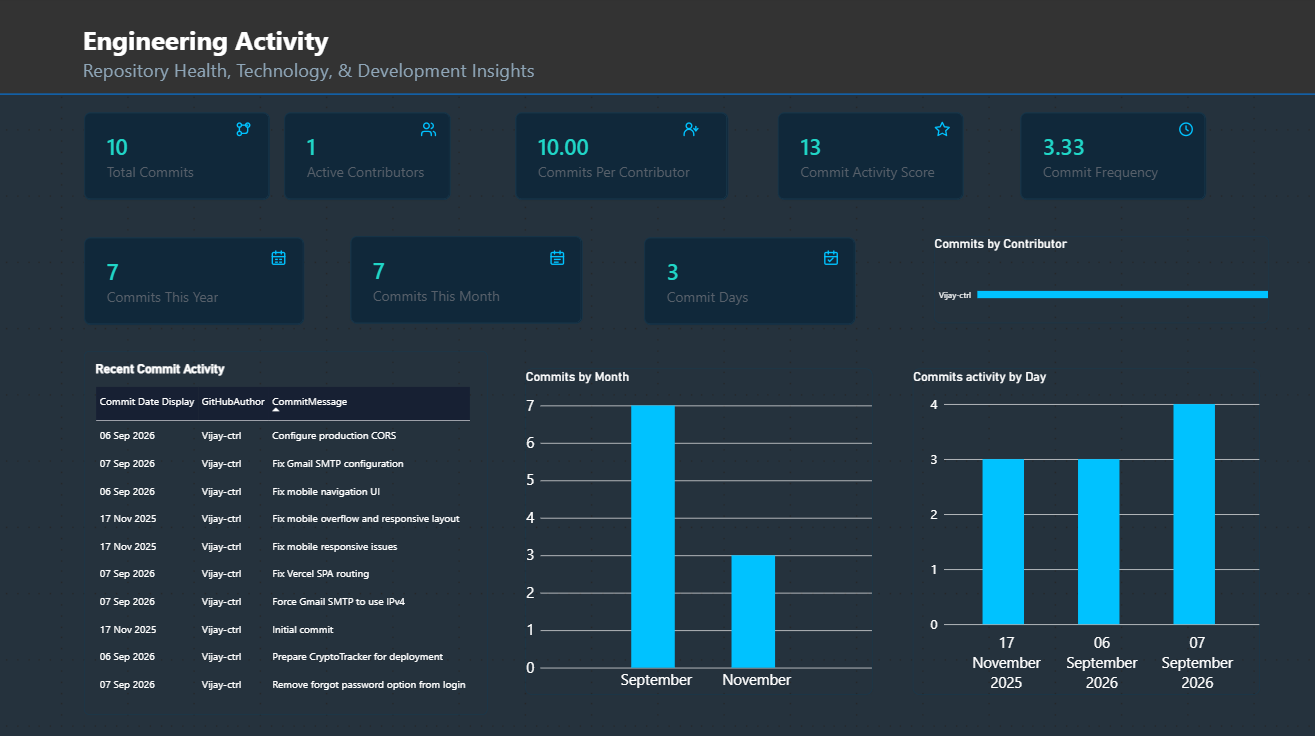

What the dashboard file says about the page in this screenshot:
{"tool":"powerbi","page":{"name":"Engineering Activity","canvas":[1920,1080],"ordinal":1},"visuals":[{"type":"cardVisual","fields":{"Data":["FactCommits.Total Commits"]},"box":[129.7,168.6,269.8,127.1],"z":0},{"type":"cardVisual","fields":{"Data":["FactCommits.Active Contributors"]},"box":[420.3,168.6,241.3,127.1],"z":1000},{"type":"cardVisual","fields":{"Data":["FactCommits.Commits Per Contributor"]},"box":[755,168.6,308.8,127.1],"z":2000},{"type":"cardVisual","fields":{"Data":["FactCommits.Commits This Year"]},"box":[129.7,350.3,319.1,127.1],"z":3000},{"type":"cardVisual","fields":{"Data":["FactCommits.Commits This Month"]},"box":[516.3,347.7,336.9,127],"z":4000},{"type":"cardVisual","fields":{"Data":["FactCommits.Commit Days"]},"box":[941.8,350.3,306.2,127.1],"z":5000},{"type":"cardVisual","fields":{"Data":["FactCommits.Commit Frequency"]},"box":[1486.7,168.6,269.8,127.1],"z":6000},{"type":"cardVisual","fields":{"Data":["FactCommits.Commit Activity Score"]},"box":[1136.4,168.6,269.8,127.1],"z":7000},{"type":"clusteredColumnChart","title":"Commits activity by Day","fields":{"Category":["DimDate.Date"],"Y":["FactCommits.Total Commits"]},"box":[1331.3,539.8,503.5,472.8],"z":8000},{"type":"clusteredColumnChart","title":"Commits by Month","fields":{"Category":["DimDate.Month"],"Y":["FactCommits.Total Commits"]},"box":[769.8,539.8,503.5,472.8],"z":9000},{"type":"clusteredBarChart","title":"Commits by Contributor","fields":{"Category":["FactCommits.GitHubAuthor"],"Y":["FactCommits.Total Commits"]},"box":[1362.1,347.8,485.4,126.8],"z":10000},{"type":"shape","box":[0,0,1920,142.3],"z":11000},{"type":"textbox","box":[128.6,38,534.3,59.8],"z":12000},{"type":"textbox","box":[128.6,70.6,934.6,72.5],"z":13000},{"type":"tableEx","title":"Recent Commit Activity","fields":{"Values":["DimDate.Commit Date Display","FactCommits.GitHubAuthor","FactCommits.CommitMessage"]},"box":[130.4,514.4,585.1,527.1],"z":14000},{"type":"image","box":[350.3,181.6,24,24],"z":14001},{"type":"image","box":[617.5,181.6,24,24],"z":14002},{"type":"image","box":[998.9,181.6,24,24],"z":14003},{"type":"image","box":[1362.2,181.6,24,24],"z":14004},{"type":"image","box":[1715,181.6,24,24],"z":14005},{"type":"image","box":[399.6,368.4,24,24],"z":14006},{"type":"image","box":[804.3,368.4,24,24],"z":14007},{"type":"image","box":[1201.3,368.4,24,24],"z":14008},{"type":"shape","box":[0,115.9,1920,52.5],"z":14009}]}

Visuals, with their boxes in screenshot pixels (x1, y1, x2, y2), scaled from the page's 1920x1080 canvas onto the 1315x736 screenshot:
cardVisual - FactCommits.Total Commits: {"x1": 89, "y1": 115, "x2": 274, "y2": 202}
cardVisual - FactCommits.Active Contributors: {"x1": 288, "y1": 115, "x2": 453, "y2": 202}
cardVisual - FactCommits.Commits Per Contributor: {"x1": 517, "y1": 115, "x2": 729, "y2": 202}
cardVisual - FactCommits.Commits This Year: {"x1": 89, "y1": 239, "x2": 307, "y2": 325}
cardVisual - FactCommits.Commits This Month: {"x1": 354, "y1": 237, "x2": 584, "y2": 323}
cardVisual - FactCommits.Commit Days: {"x1": 645, "y1": 239, "x2": 855, "y2": 325}
cardVisual - FactCommits.Commit Frequency: {"x1": 1018, "y1": 115, "x2": 1203, "y2": 202}
cardVisual - FactCommits.Commit Activity Score: {"x1": 778, "y1": 115, "x2": 963, "y2": 202}
"Commits activity by Day" clusteredColumnChart: {"x1": 912, "y1": 368, "x2": 1257, "y2": 690}
"Commits by Month" clusteredColumnChart: {"x1": 527, "y1": 368, "x2": 872, "y2": 690}
"Commits by Contributor" clusteredBarChart: {"x1": 933, "y1": 237, "x2": 1265, "y2": 323}
shape: {"x1": 0, "y1": 0, "x2": 1314, "y2": 97}
textbox: {"x1": 88, "y1": 26, "x2": 454, "y2": 67}
textbox: {"x1": 88, "y1": 48, "x2": 728, "y2": 98}
"Recent Commit Activity" tableEx: {"x1": 89, "y1": 351, "x2": 490, "y2": 710}
image: {"x1": 240, "y1": 124, "x2": 256, "y2": 140}
image: {"x1": 423, "y1": 124, "x2": 439, "y2": 140}
image: {"x1": 684, "y1": 124, "x2": 701, "y2": 140}
image: {"x1": 933, "y1": 124, "x2": 949, "y2": 140}
image: {"x1": 1175, "y1": 124, "x2": 1191, "y2": 140}
image: {"x1": 274, "y1": 251, "x2": 290, "y2": 267}
image: {"x1": 551, "y1": 251, "x2": 567, "y2": 267}
image: {"x1": 823, "y1": 251, "x2": 839, "y2": 267}
shape: {"x1": 0, "y1": 79, "x2": 1314, "y2": 115}
